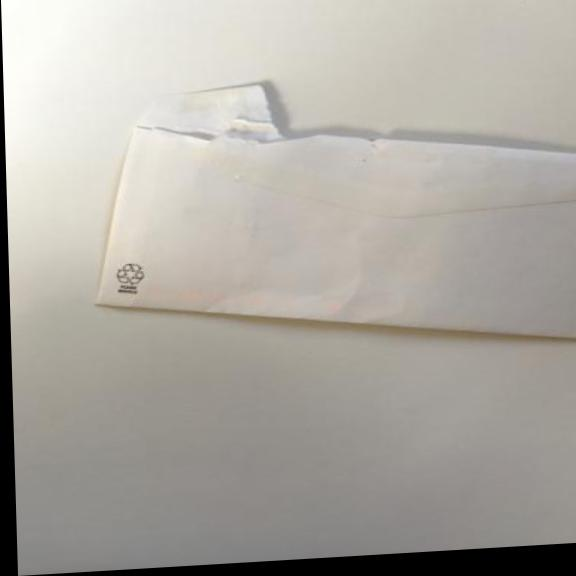Kertas: (79, 57, 576, 375)
